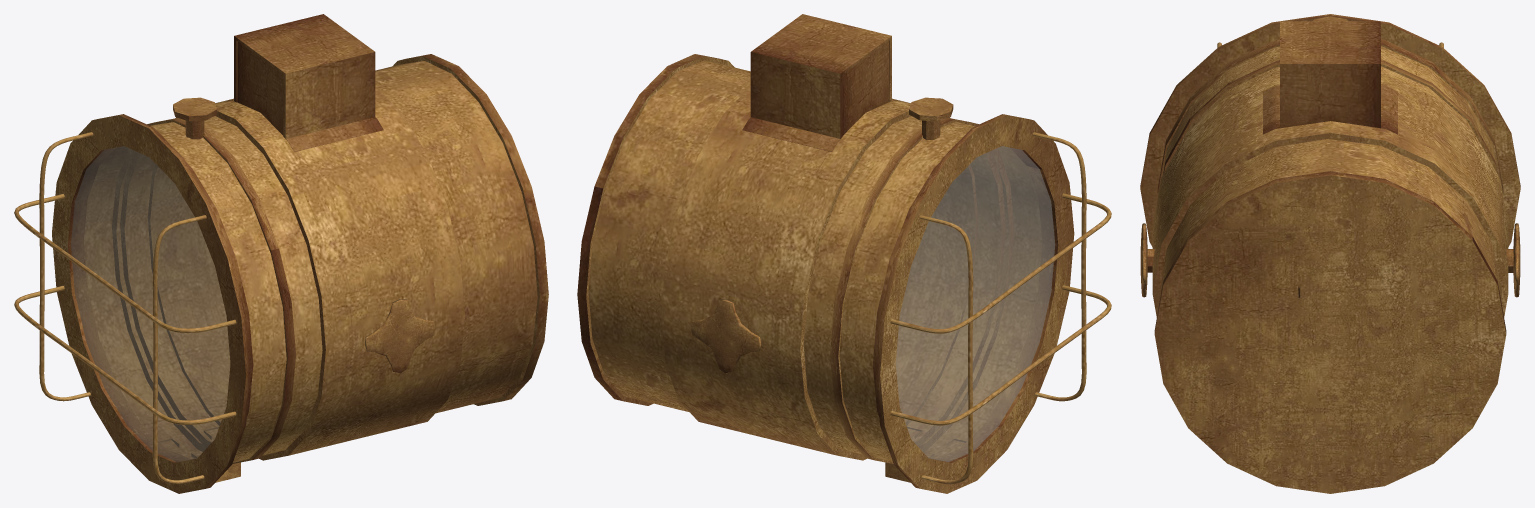
Rendered from head_only.fbx.
3 views of the same model, side by side, from view 1: azimuth 30°, elevation 25°; view 2: azimuth 150°, elevation 25°; view 3: azimuth 270°, elevation 25° (orthographic). The views are drawn at different scales.
Parts seen in each view (by area): view 1: polySurface181; view 2: polySurface181; view 3: polySurface181.
Part boxes in pixels (x1,y1,x2,y2): polySurface181: (14, 14, 548, 493); polySurface181: (577, 14, 1111, 493); polySurface181: (1140, 14, 1520, 493).
Size of the model in its own units: 1.58 by 1.67 by 1.43.
2 materials, 1 textured.
